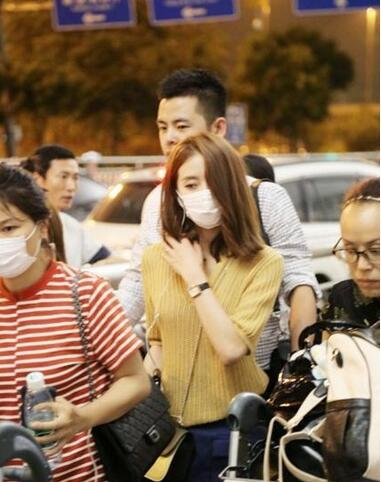NONE: (1, 210, 44, 279), (340, 228, 381, 292), (160, 113, 205, 161), (49, 169, 81, 207)
OK: (178, 170, 237, 224)
